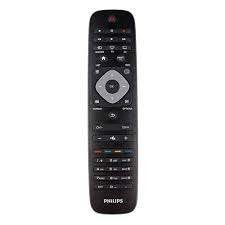remote control: (85, 10, 143, 214)
